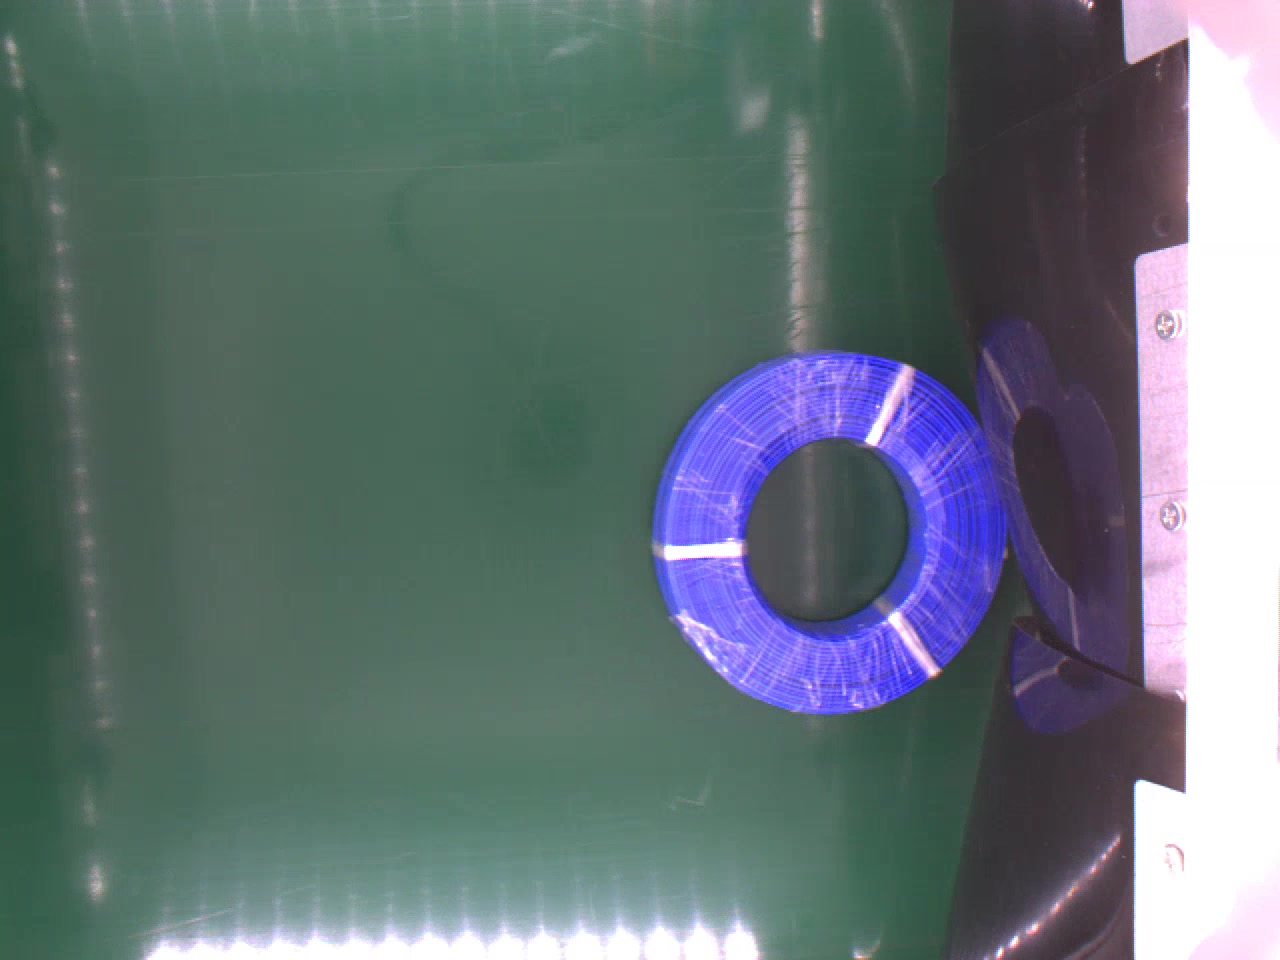blue: (649, 345, 1012, 713)
